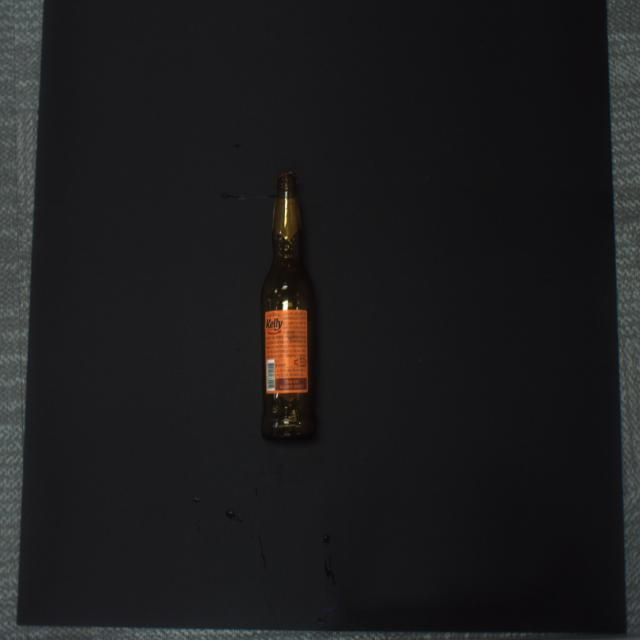beer-bottle: (260, 171, 315, 440)
